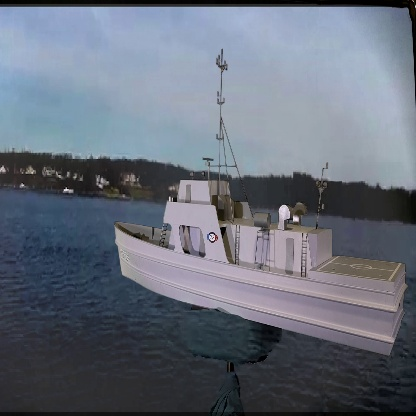YP689: (114, 44, 407, 357)
